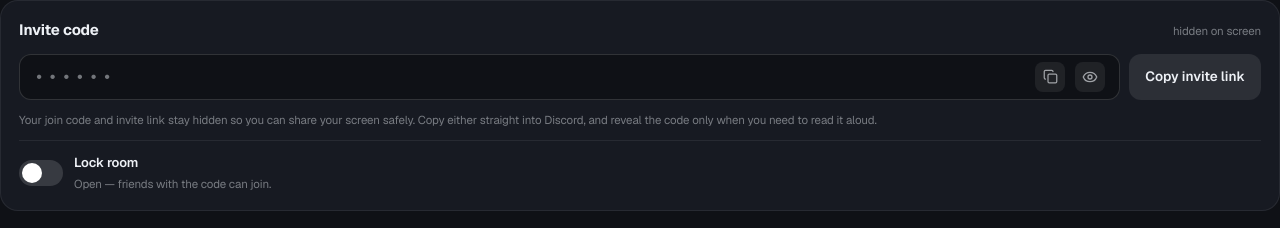
Test case: RoomInvitePanel — stream safety › reveals the code only on an explicit press, and hides it again
Click the button named "Reveal".
click(1090, 76)  # box [1075,62,1105,92]
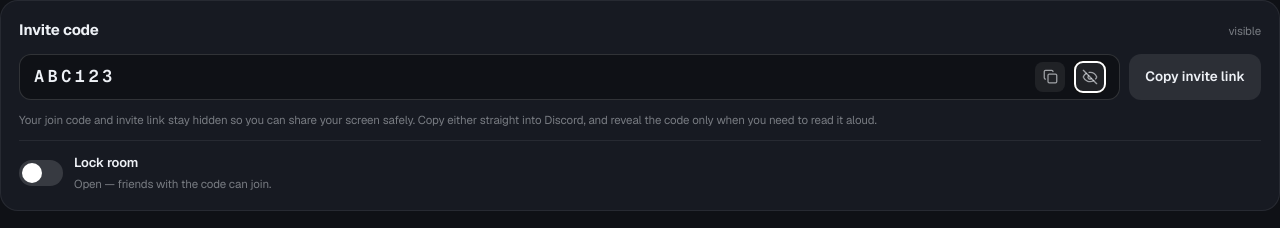
Expected: the text with test id "join-code" reads "ABC123", [34,65,116,87]
Click the button named "Hide".
click(1090, 76)  # box [1075,62,1105,92]
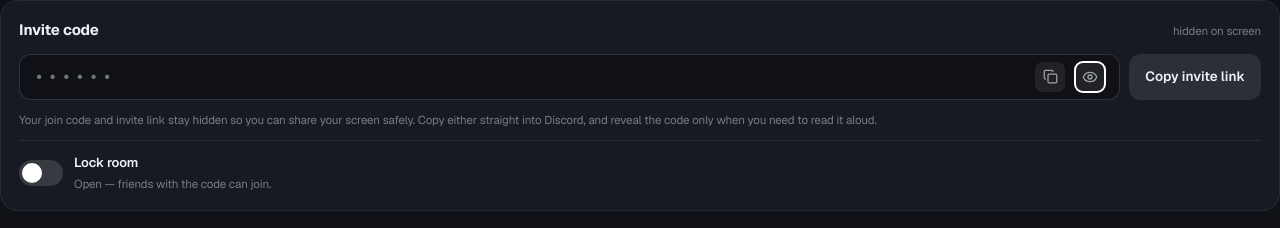
Expected: the text with test id "join-code" reads "••••••", [34,65,116,87]
